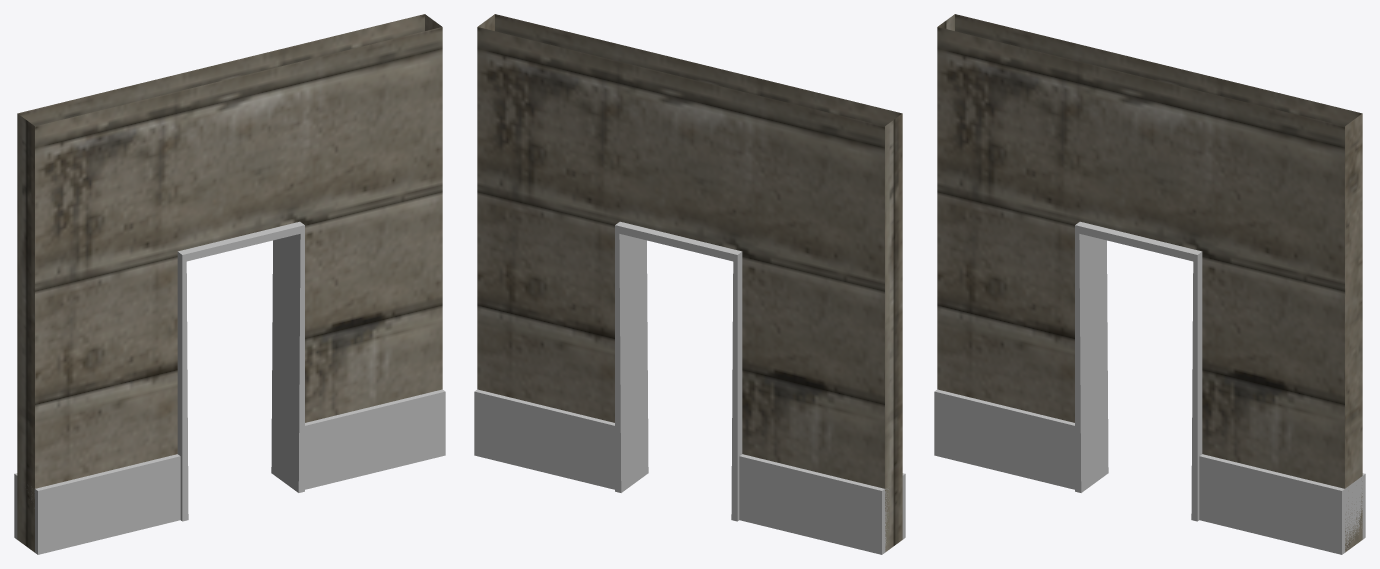
Rendered from MO_WALL_S_DOOR_05.fbx.
3 views of the same model, side by side, from view 1: azimuth 30°, elevation 25°; view 2: azimuth 150°, elevation 25°; view 3: azimuth 330°, elevation 25° (orthographic).
Parts seen in each view (by area): view 1: MO_WALL_S_DOOR_05; view 2: MO_WALL_S_DOOR_05; view 3: MO_WALL_S_DOOR_05.
Boxes of the visible parts, box(x1,y1,x2,y2) form: MO_WALL_S_DOOR_05: box(14, 14, 445, 554); MO_WALL_S_DOOR_05: box(474, 14, 905, 554); MO_WALL_S_DOOR_05: box(934, 14, 1365, 554).
Size of the model in its own units: 4 by 4 by 0.464.
